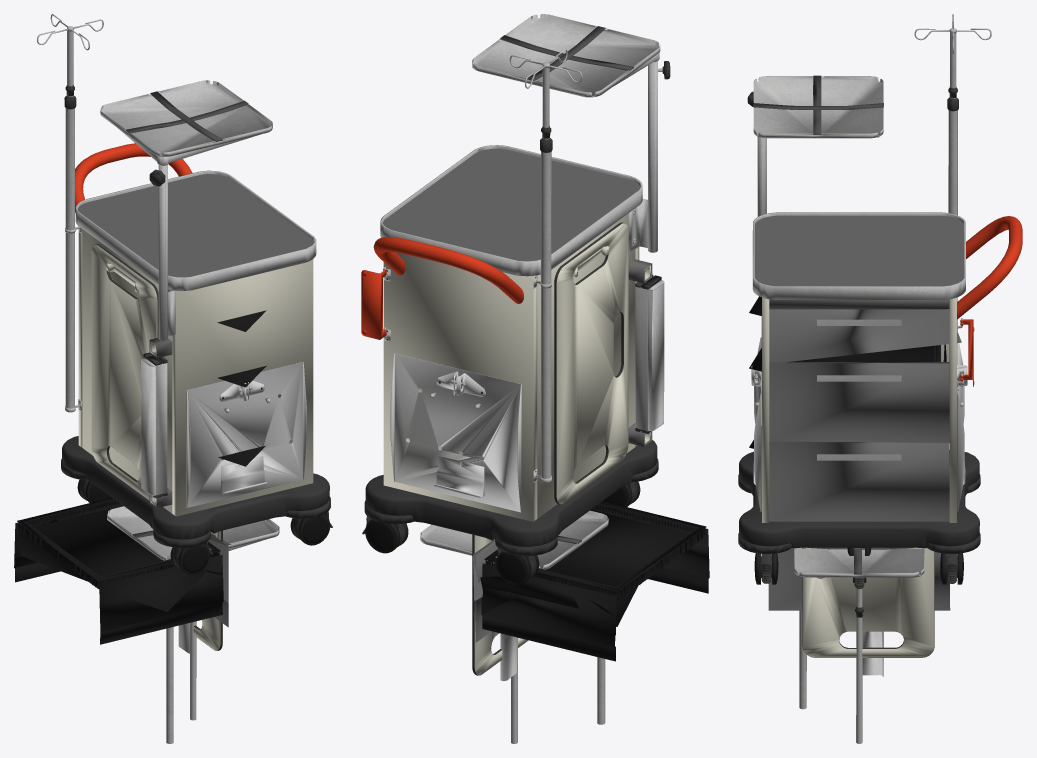
The model's file is trolley_emergency_a01.glb.
3 views of the same model, side by side, from view 1: azimuth 30°, elevation 25°; view 2: azimuth 150°, elevation 25°; view 3: azimuth 270°, elevation 25° (orthographic). The views are drawn at different scales.
Visible parts, largest first — view 1: base_01_mesh_00, board_01_mesh_00 (×2), tableSmall_01_mesh_00 (×2), drawer_01_mesh_00, drawer_02_mesh_00, drawer_03_mesh_00, powerstripDoor_01_mesh_00, supportDrip_01_mesh_00 (×2), elastic_01_mesh_00, tire_02_mesh_00, tire_01_mesh_00; view 2: base_01_mesh_00, board_01_mesh_00 (×2), tableSmall_01_mesh_00 (×2), drawer_01_mesh_00, drawer_02_mesh_00, drawer_03_mesh_00, powerstripDoor_01_mesh_00 (×2), elastic_01_mesh_00, supportDrip_01_mesh_00, tire_04_mesh_00, tire_03_mesh_00; view 3: base_01_mesh_00, drawer_02_mesh_00 (×2), drawer_03_mesh_00, tableSmall_01_mesh_00 (×2), board_01_mesh_00, drawer_01_mesh_00, supportDrip_01_mesh_00 (×2), elastic_01_mesh_00, powerstripDoor_01_mesh_00.
Part boxes in pixels (x1,y1,x2,y2): base_01_mesh_00: (61, 95, 330, 547); board_01_mesh_00 (×2): (91, 244, 222, 650); tableSmall_01_mesh_00 (×2): (100, 80, 279, 743); drawer_01_mesh_00: (15, 497, 228, 620); drawer_02_mesh_00: (14, 500, 228, 644); drawer_03_mesh_00: (14, 500, 228, 631); powerstripDoor_01_mesh_00: (141, 359, 155, 494); supportDrip_01_mesh_00 (×2): (37, 14, 196, 720); elastic_01_mesh_00: (126, 91, 248, 141); tire_02_mesh_00: (290, 514, 330, 545); tire_01_mesh_00: (170, 543, 210, 574); base_01_mesh_00: (361, 61, 670, 555); board_01_mesh_00 (×2): (472, 222, 628, 675); tableSmall_01_mesh_00 (×2): (420, 14, 660, 724); drawer_01_mesh_00: (473, 501, 706, 635); drawer_02_mesh_00: (476, 504, 709, 646); drawer_03_mesh_00: (473, 504, 708, 661); powerstripDoor_01_mesh_00 (×2): (500, 283, 664, 681); elastic_01_mesh_00: (500, 26, 633, 80); supportDrip_01_mesh_00: (509, 49, 582, 139); tire_04_mesh_00: (496, 551, 539, 585); tire_03_mesh_00: (365, 519, 408, 553); base_01_mesh_00: (738, 91, 1022, 554); drawer_02_mesh_00 (×2): (749, 344, 950, 610); drawer_03_mesh_00: (749, 427, 949, 521); tableSmall_01_mesh_00 (×2): (753, 76, 924, 709); board_01_mesh_00: (802, 547, 934, 657); drawer_01_mesh_00: (749, 296, 961, 362); supportDrip_01_mesh_00 (×2): (855, 14, 991, 743); elastic_01_mesh_00: (753, 75, 883, 134); powerstripDoor_01_mesh_00: (862, 631, 883, 676).
Size of the model in its own units: 0.85 by 2.41 by 0.9178.
Materials: 36 (20 with a texture image).
